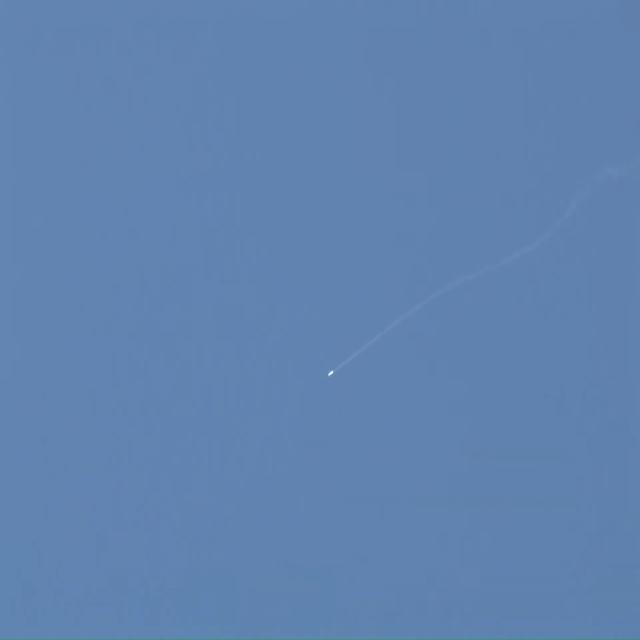Rocket: (328, 369, 333, 376)
